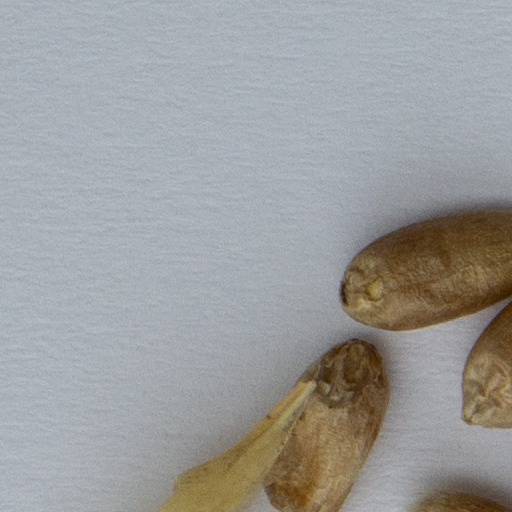Peel-poly: (160, 375, 313, 511)
